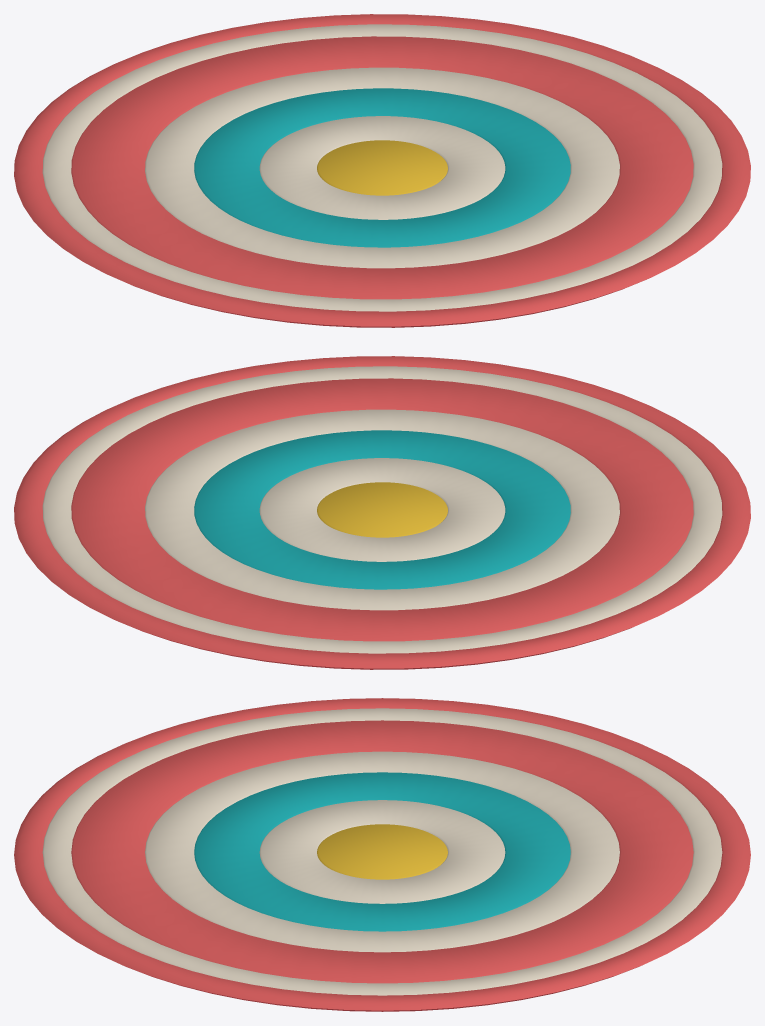
The model's file is rug.glb.
3 renders of one model, top to bottom at view 1: azimuth 30°, elevation 25°; view 2: azimuth 150°, elevation 25°; view 3: azimuth 270°, elevation 25°, orthographic.
Visible parts, largest first — view 1: Rug; view 2: Rug; view 3: Rug.
Part boxes in pixels (<box>): Rug: <box>14,14,750,327</box>; Rug: <box>14,356,750,669</box>; Rug: <box>14,698,750,1011</box>.
Bounding box in the file's own units: 1.8 × 0.02 × 1.8.
